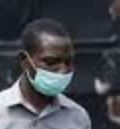with_facemask: (32, 67, 81, 96)
